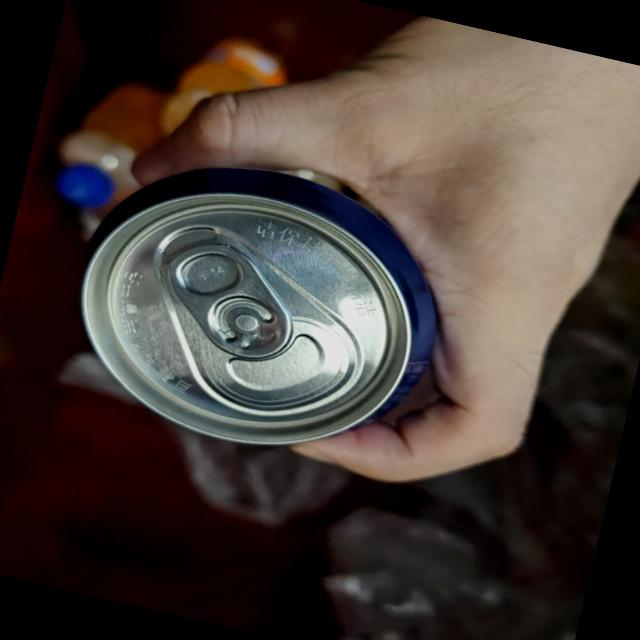can: (43, 128, 469, 484)
